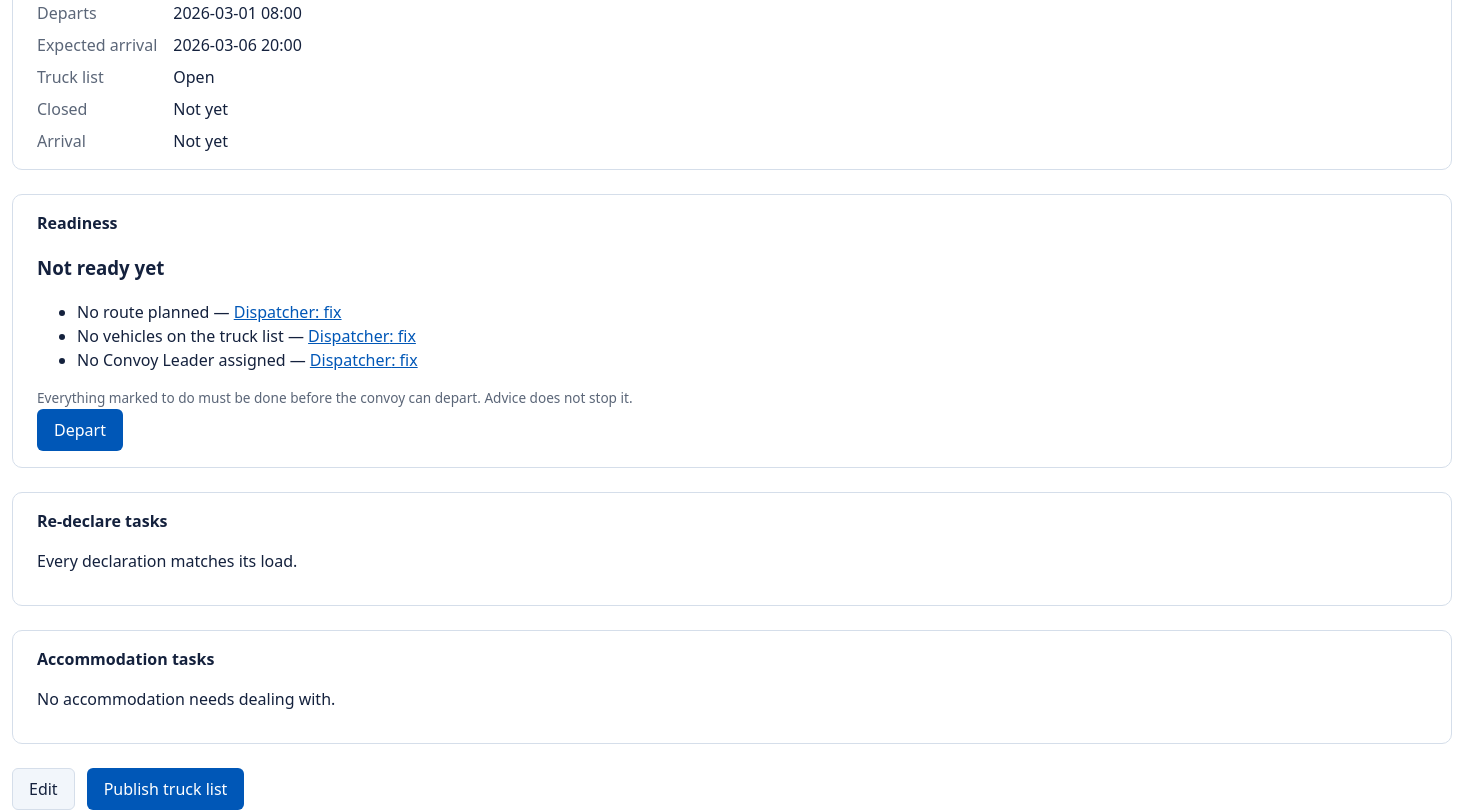
Scenario: publishing the truck list flips the badge and removes the button
The width and height of the screenshot is (1464, 810).
(page scrolled)
Click the button "Publish truck list": (165, 789) left=87, top=768, right=244, bottom=809
(page scrolled)
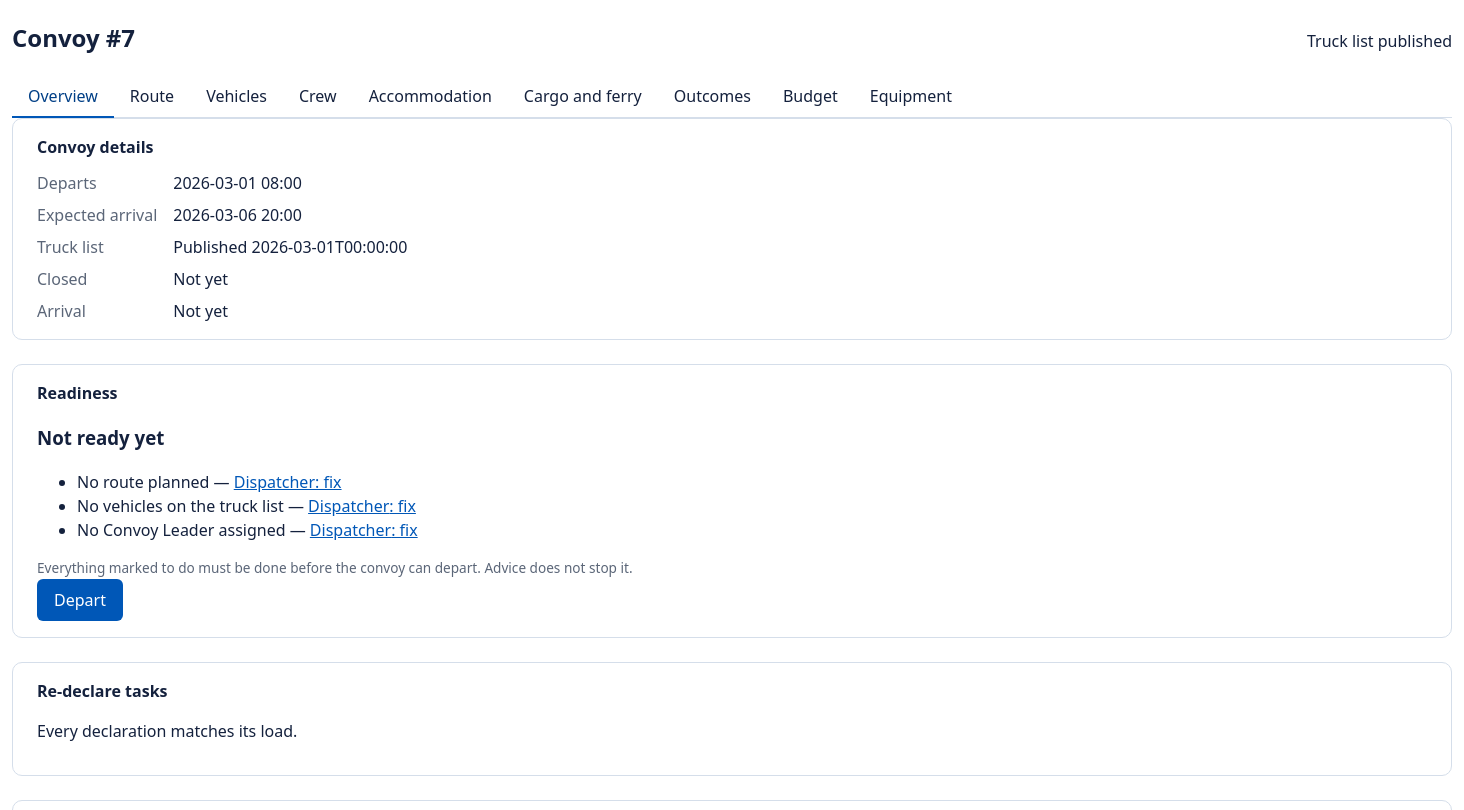
Expected: the text "Truck list published" is shown, left=1307, top=29, right=1452, bottom=53
